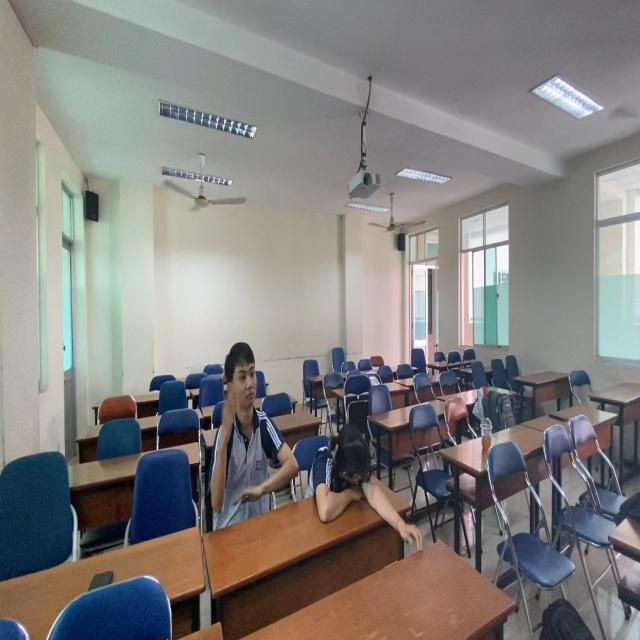sleep: (306, 420, 423, 559)
